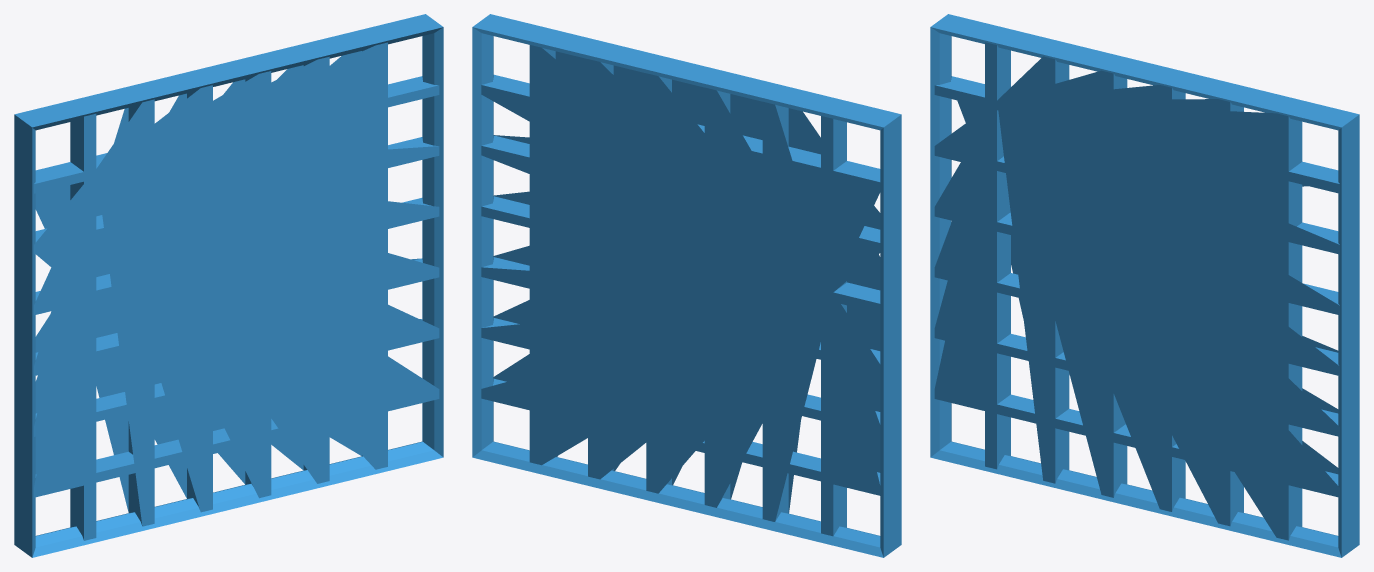
3 views of the same model, side by side, from view 1: azimuth 30°, elevation 25°; view 2: azimuth 150°, elevation 25°; view 3: azimuth 330°, elevation 25° (orthographic).
Parts seen in each view (by area): view 1: Cube.001; view 2: Cube.001; view 3: Cube.001.
Boxes of the visible parts, x1=… form: Cube.001: x1=14, y1=14, x2=443, y2=557; Cube.001: x1=472, y1=14, x2=901, y2=557; Cube.001: x1=930, y1=14, x2=1359, y2=557.
Size of the model in its own units: 3602 by 3602 by 272.
